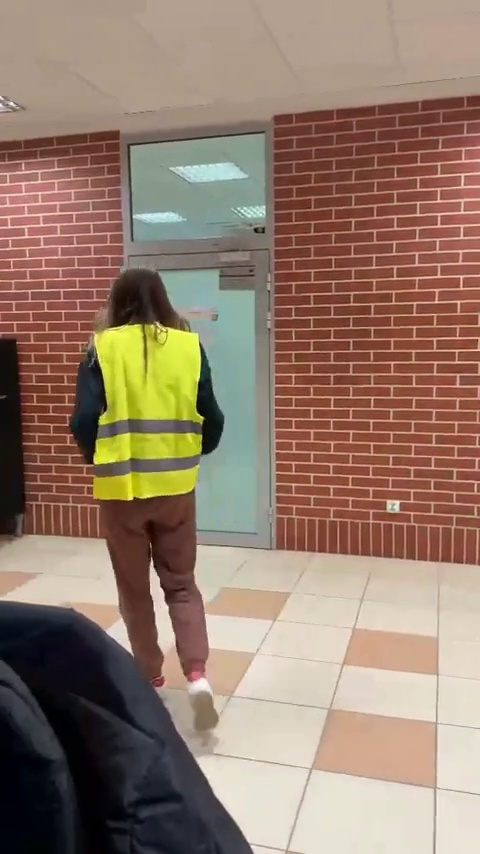vest: (77, 271, 231, 747)
